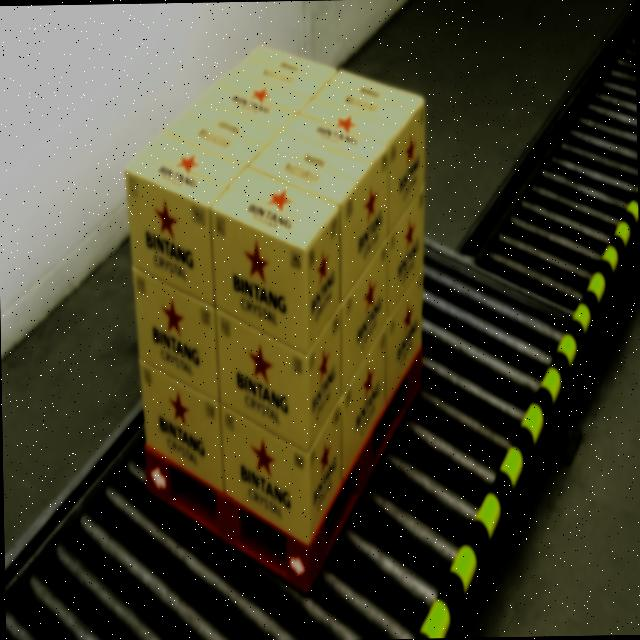pallet: (115, 36, 438, 593)
